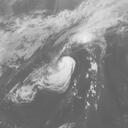cyclone: (38, 56, 77, 93)
